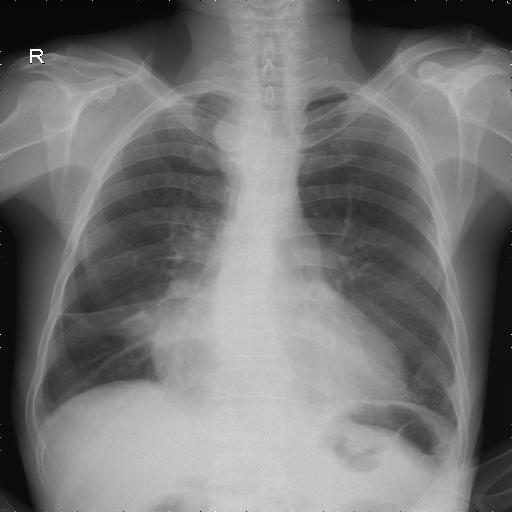Cardiomegaly: (21, 282, 280, 365)
Lung Opacity: (0, 274, 125, 318)
Nodule-Mass: (190, 86, 234, 130)
Other lesion: (184, 84, 242, 132)
Pulmonary fibrosis: (0, 282, 124, 316), (420, 369, 448, 391)
